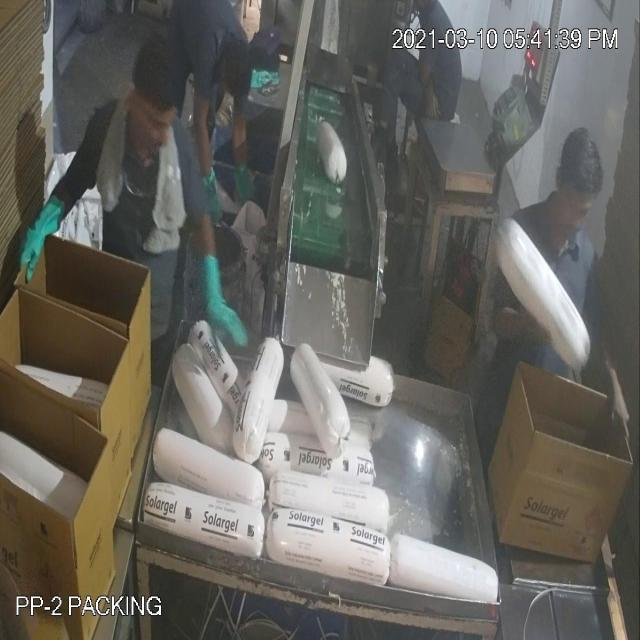gloves: (191, 243, 258, 393), (3, 185, 69, 287)
no-gloves: (589, 306, 639, 449), (476, 294, 566, 372)
